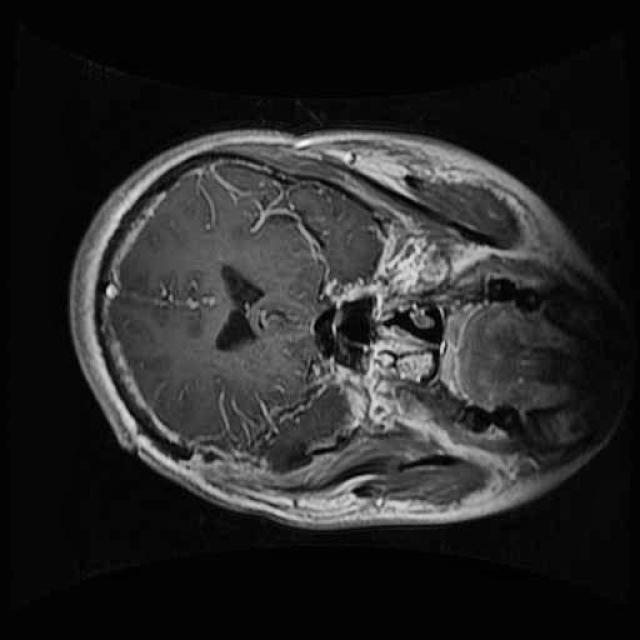Non-Tumor: (228, 374, 354, 481)
